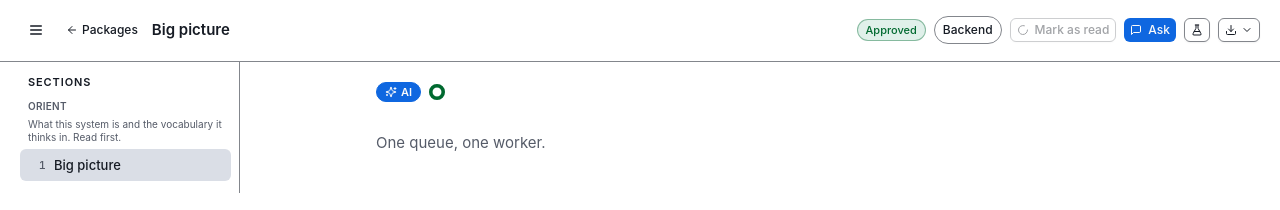
Test: reader read mark (every tier) › says it is loading while progress is in flight, instead of going quietly dead
Hover over the element showing "Mark as read": (1063, 30) [1010,18,1116,42]
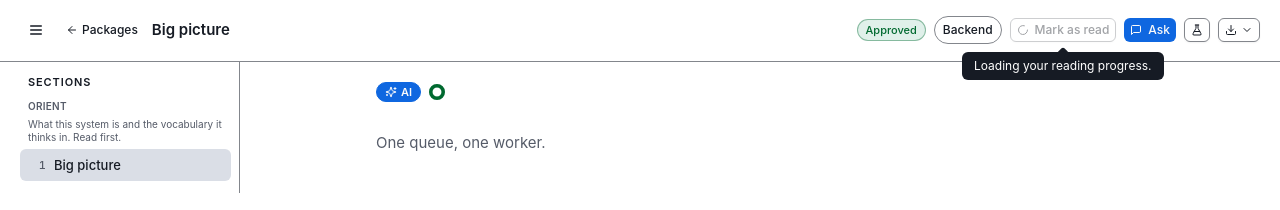
Expected: the tooltip "Loading your reading progress." is shown, [962,52,1164,80]
